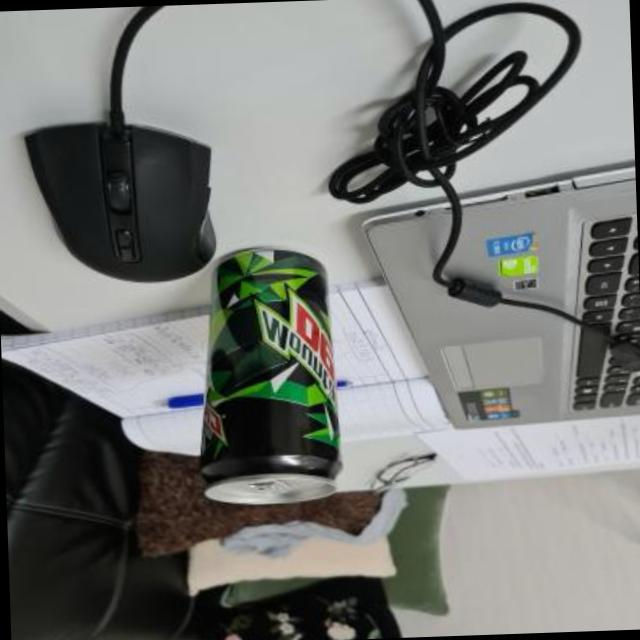cardboard paper: (0, 310, 207, 415), (418, 416, 640, 481), (332, 286, 424, 388), (338, 379, 448, 442), (124, 410, 199, 453)
metal: (201, 251, 340, 503)
